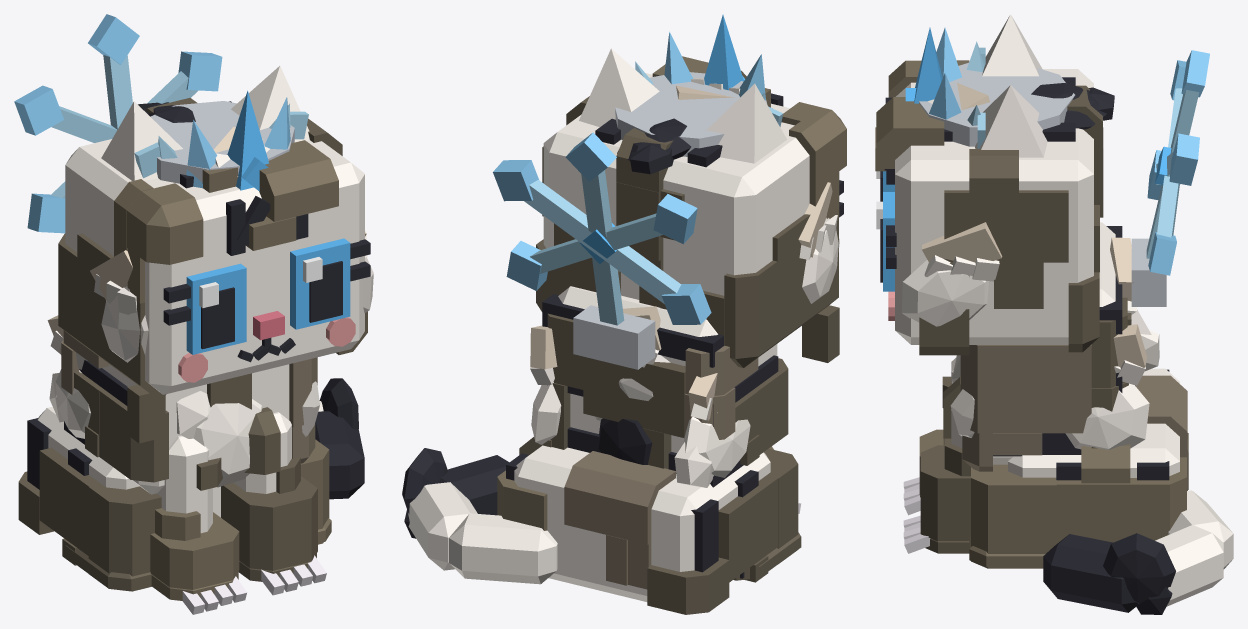
Rendered from CleanACat_Cat_WhiteTiger_Dirty_Sit.fbx.
The picture shows the model from 3 angles, left to right: view 1: azimuth 30°, elevation 25°; view 2: azimuth 150°, elevation 25°; view 3: azimuth 270°, elevation 25°; orthographic projection.
Parts seen in each view (by area): view 1: CleanACat_Cat_WhiteTiger_Dirty_Sit_Head, CleanACat_Cat_WhiteTiger_Dirty_Sit_Prop2, CleanACat_Cat_WhiteTiger_Dirty_Sit_Mud17, CleanACat_Cat_WhiteTiger_Dirty_Sit_Mud01, CleanACat_Cat_WhiteTiger_Dirty_Sit_Prop, CleanACat_Cat_WhiteTiger_Dirty_Sit_Body, CleanACat_Cat_WhiteTiger_Dirty_Sit_Mud06, CleanACat_Cat_WhiteTiger_Dirty_Sit_Mud16, CleanACat_Cat_WhiteTiger_Dirty_Sit_Mud03, CleanACat_Cat_WhiteTiger_Dirty_Sit_Mud18, CleanACat_Cat_WhiteTiger_Dirty_Sit_Mud14, CleanACat_Cat_WhiteTiger_Dirty_Sit_Mud10 (+21 smaller); view 2: CleanACat_Cat_WhiteTiger_Dirty_Sit_Body, CleanACat_Cat_WhiteTiger_Dirty_Sit_Head, CleanACat_Cat_WhiteTiger_Dirty_Sit_Prop2, CleanACat_Cat_WhiteTiger_Dirty_Sit_Tail, CleanACat_Cat_WhiteTiger_Dirty_Sit_Mud01, CleanACat_Cat_WhiteTiger_Dirty_Sit_Mud09, CleanACat_Cat_WhiteTiger_Dirty_Sit_Mud13, CleanACat_Cat_WhiteTiger_Dirty_Sit_Mud14, CleanACat_Cat_WhiteTiger_Dirty_Sit_Prop, CleanACat_Cat_WhiteTiger_Dirty_Sit_Mud04, CleanACat_Cat_WhiteTiger_Dirty_Sit_Mud06, CleanACat_Cat_WhiteTiger_Dirty_Sit_EarR (+18 smaller); view 3: CleanACat_Cat_WhiteTiger_Dirty_Sit_Head, CleanACat_Cat_WhiteTiger_Dirty_Sit_Mud02, CleanACat_Cat_WhiteTiger_Dirty_Sit_Mud08, CleanACat_Cat_WhiteTiger_Dirty_Sit_Tail, CleanACat_Cat_WhiteTiger_Dirty_Sit_Mud12, CleanACat_Cat_WhiteTiger_Dirty_Sit_Prop2, CleanACat_Cat_WhiteTiger_Dirty_Sit_Mud15, CleanACat_Cat_WhiteTiger_Dirty_Sit_Prop, CleanACat_Cat_WhiteTiger_Dirty_Sit_Body, CleanACat_Cat_WhiteTiger_Dirty_Sit_Mud17, CleanACat_Cat_WhiteTiger_Dirty_Sit_Fluff09, CleanACat_Cat_WhiteTiger_Dirty_Sit_Fluff01 (+19 smaller).
Boxes of the visible parts, x1,y1,x2,y2 form: CleanACat_Cat_WhiteTiger_Dirty_Sit_Head: [65, 101, 370, 394]; CleanACat_Cat_WhiteTiger_Dirty_Sit_Prop2: [14, 14, 222, 233]; CleanACat_Cat_WhiteTiger_Dirty_Sit_Mud17: [221, 457, 317, 581]; CleanACat_Cat_WhiteTiger_Dirty_Sit_Mud01: [58, 233, 166, 443]; CleanACat_Cat_WhiteTiger_Dirty_Sit_Prop: [150, 90, 294, 190]; CleanACat_Cat_WhiteTiger_Dirty_Sit_Body: [27, 360, 289, 517]; CleanACat_Cat_WhiteTiger_Dirty_Sit_Mud06: [114, 179, 203, 303]; CleanACat_Cat_WhiteTiger_Dirty_Sit_Mud16: [65, 484, 161, 591]; CleanACat_Cat_WhiteTiger_Dirty_Sit_Mud03: [202, 140, 338, 250]; CleanACat_Cat_WhiteTiger_Dirty_Sit_Mud18: [150, 508, 239, 600]; CleanACat_Cat_WhiteTiger_Dirty_Sit_Mud14: [18, 447, 100, 565]; CleanACat_Cat_WhiteTiger_Dirty_Sit_Mud10: [74, 371, 168, 482]; CleanACat_Cat_WhiteTiger_Dirty_Sit_Body: [506, 286, 778, 601]; CleanACat_Cat_WhiteTiger_Dirty_Sit_Head: [543, 73, 843, 299]; CleanACat_Cat_WhiteTiger_Dirty_Sit_Prop2: [493, 132, 711, 369]; CleanACat_Cat_WhiteTiger_Dirty_Sit_Tail: [408, 455, 557, 584]; CleanACat_Cat_WhiteTiger_Dirty_Sit_Mud01: [660, 214, 839, 367]; CleanACat_Cat_WhiteTiger_Dirty_Sit_Mud09: [547, 313, 685, 469]; CleanACat_Cat_WhiteTiger_Dirty_Sit_Mud13: [564, 451, 675, 589]; CleanACat_Cat_WhiteTiger_Dirty_Sit_Mud14: [647, 475, 777, 614]; CleanACat_Cat_WhiteTiger_Dirty_Sit_Prop: [615, 14, 767, 156]; CleanACat_Cat_WhiteTiger_Dirty_Sit_Mud04: [616, 128, 684, 307]; CleanACat_Cat_WhiteTiger_Dirty_Sit_Mud06: [781, 102, 846, 218]; CleanACat_Cat_WhiteTiger_Dirty_Sit_EarR: [706, 83, 786, 163]; CleanACat_Cat_WhiteTiger_Dirty_Sit_Head: [884, 69, 1093, 344]; CleanACat_Cat_WhiteTiger_Dirty_Sit_Mud02: [919, 149, 1068, 355]; CleanACat_Cat_WhiteTiger_Dirty_Sit_Mud08: [960, 344, 1091, 471]; CleanACat_Cat_WhiteTiger_Dirty_Sit_Tail: [1043, 490, 1233, 612]; CleanACat_Cat_WhiteTiger_Dirty_Sit_Mud12: [1056, 444, 1186, 543]; CleanACat_Cat_WhiteTiger_Dirty_Sit_Prop2: [1131, 50, 1209, 306]; CleanACat_Cat_WhiteTiger_Dirty_Sit_Mud15: [969, 464, 1056, 568]; CleanACat_Cat_WhiteTiger_Dirty_Sit_Prop: [914, 27, 1075, 146]; CleanACat_Cat_WhiteTiger_Dirty_Sit_Body: [993, 222, 1179, 480]; CleanACat_Cat_WhiteTiger_Dirty_Sit_Mud17: [920, 438, 970, 553]; CleanACat_Cat_WhiteTiger_Dirty_Sit_Fluff09: [1103, 533, 1175, 614]; CleanACat_Cat_WhiteTiger_Dirty_Sit_Fluff01: [901, 260, 989, 326].
Size of the model in its own units: 1.35 by 1.94 by 1.27.
1 material, 1 textured.
